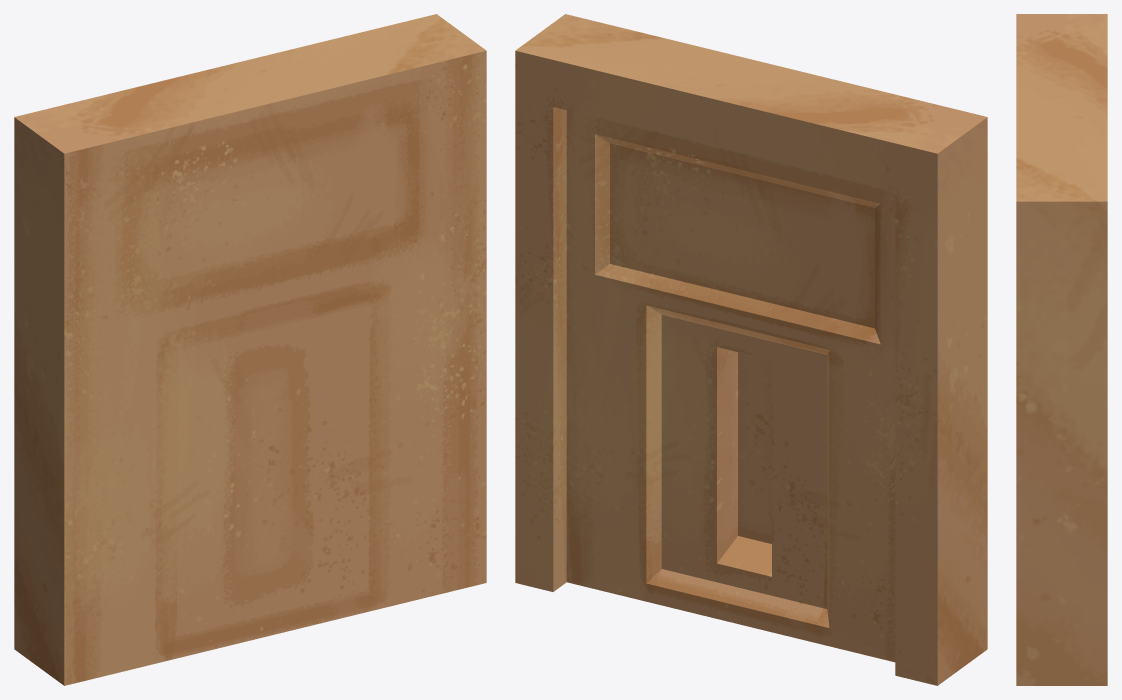
The model's file is SM_EgyptDoor.fbx.
3 views of the same model, side by side, from view 1: azimuth 30°, elevation 25°; view 2: azimuth 150°, elevation 25°; view 3: azimuth 270°, elevation 25° (orthographic). The views are drawn at different scales.
Visible parts, largest first — view 1: door; view 2: door; view 3: door.
Boxes of the visible parts, x1=… form: door: x1=14, y1=14, x2=486, y2=685; door: x1=515, y1=14, x2=987, y2=685; door: x1=1016, y1=14, x2=1107, y2=685.
Bounding box in the file's own units: 43.43 × 52.3 × 8.93.
